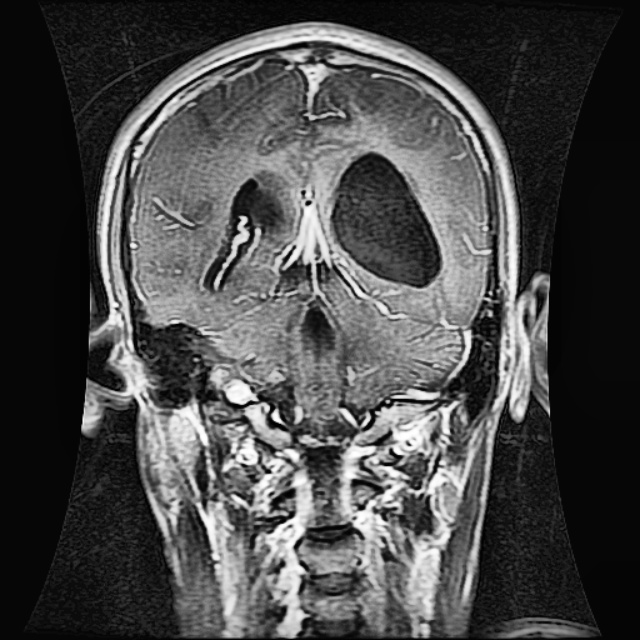Meningioma: (262, 75, 355, 159)
